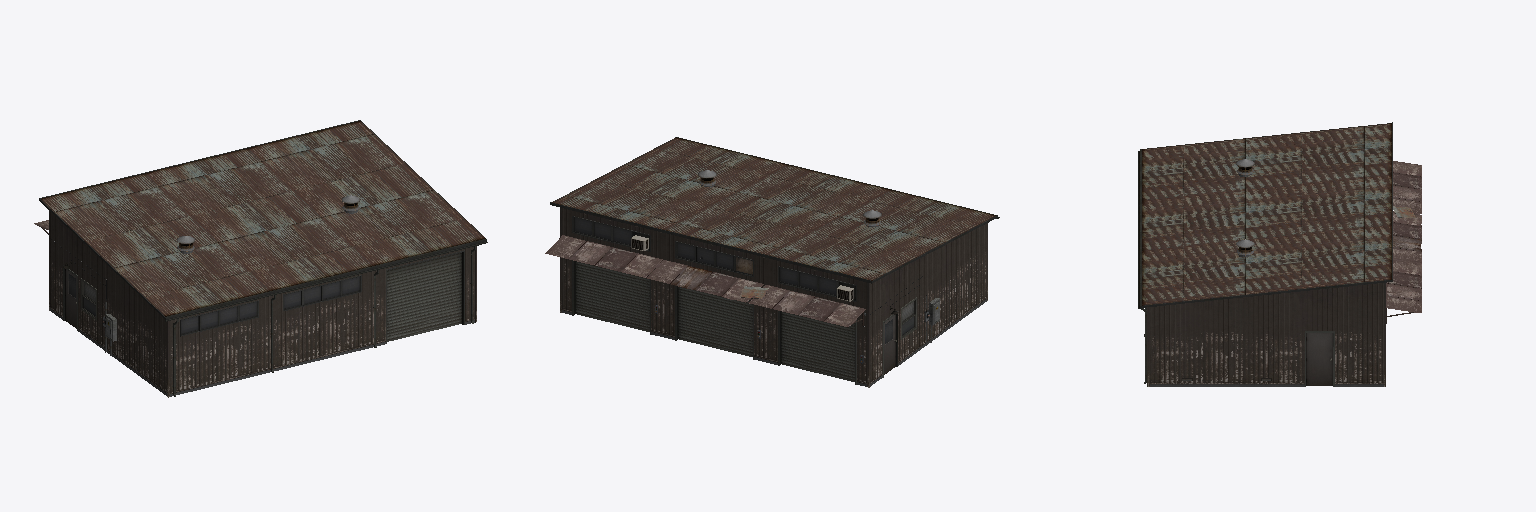
3 views of the same model, side by side, from view 1: azimuth 30°, elevation 25°; view 2: azimuth 150°, elevation 25°; view 3: azimuth 270°, elevation 25° (orthographic).
Parts seen in each view (by area): view 1: warehouse_1; view 2: warehouse_1; view 3: warehouse_1.
Boxes of the visible parts, x1=… form: warehouse_1: x1=34, y1=120, x2=487, y2=397; warehouse_1: x1=545, y1=137, x2=999, y2=387; warehouse_1: x1=1138, y1=122, x2=1421, y2=386.
Bounding box in the file's own units: 14.18 × 4.67 × 10.81.
1 materials, 1 textured.